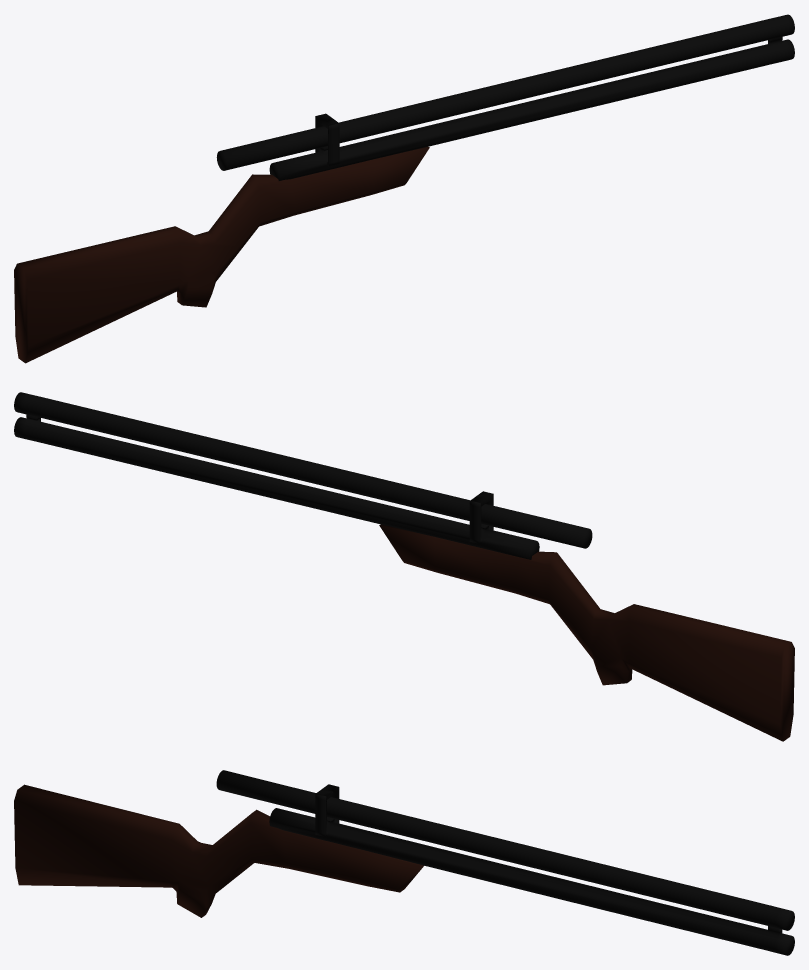
The model's file is MarksmanRifle.obj.
The picture shows the model from 3 angles, top to bottom: view 1: azimuth 30°, elevation 25°; view 2: azimuth 150°, elevation 25°; view 3: azimuth 330°, elevation 25°; orthographic projection.
Visible parts, largest first — view 1: Cube_Cube_Wood, Cube_Cube_Metal; view 2: Cube_Cube_Wood, Cube_Cube_Metal; view 3: Cube_Cube_Wood, Cube_Cube_Metal.
Part boxes in pixels (bbox=[...]): Cube_Cube_Wood: bbox=[14, 146, 429, 363]; Cube_Cube_Metal: bbox=[216, 14, 794, 180]; Cube_Cube_Wood: bbox=[379, 524, 794, 741]; Cube_Cube_Metal: bbox=[14, 392, 592, 559]; Cube_Cube_Wood: bbox=[14, 784, 423, 917]; Cube_Cube_Metal: bbox=[216, 770, 794, 955].
Bounding box in the file's own units: 27.05 × 5.61 × 0.8354.
